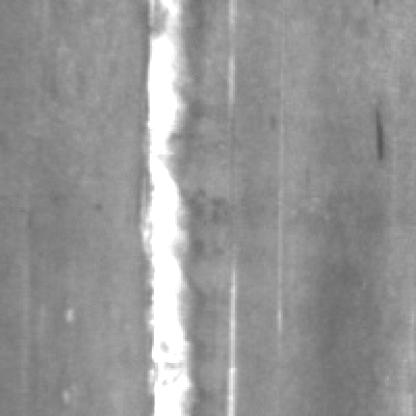inclusion: (373, 108, 396, 172)
scratches: (140, 4, 206, 416), (223, 262, 247, 416), (223, 2, 247, 127)
